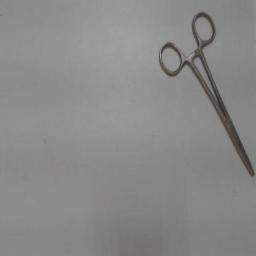Mayo Needle Holder: (154, 6, 256, 186)
